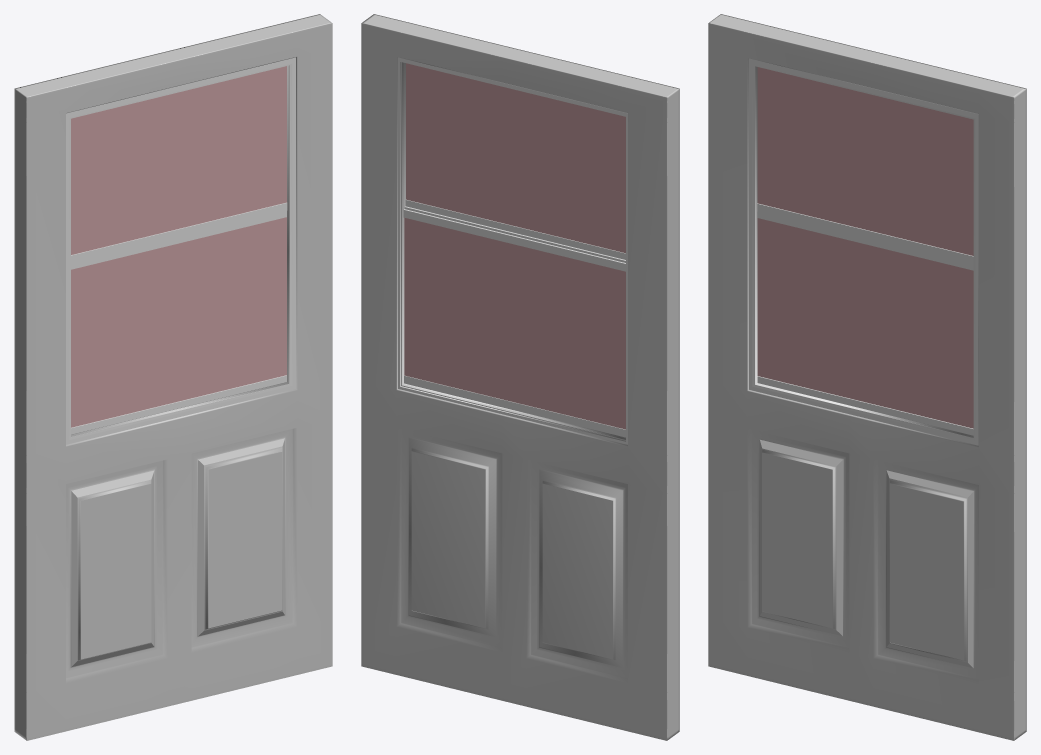
File: DoorHalfGlassSliderSlab.fbx
The picture shows the model from 3 angles, left to right: view 1: azimuth 30°, elevation 25°; view 2: azimuth 150°, elevation 25°; view 3: azimuth 330°, elevation 25°; orthographic projection.
Parts seen in each view (by area): view 1: Door_LOD0, Slider; view 2: Door_LOD0, Slider; view 3: Door_LOD0, Slider.
Part boxes in pixels (left/top/right/bottom): Door_LOD0: left=14, top=14, right=332, bottom=740; Slider: left=71, top=212, right=286, bottom=434; Door_LOD0: left=361, top=14, right=679, bottom=740; Slider: left=403, top=206, right=625, bottom=437; Door_LOD0: left=708, top=14, right=1026, bottom=740; Slider: left=757, top=213, right=973, bottom=435.
Size of what is drawn, in the model's own units: 206 by 414 by 14.99.
